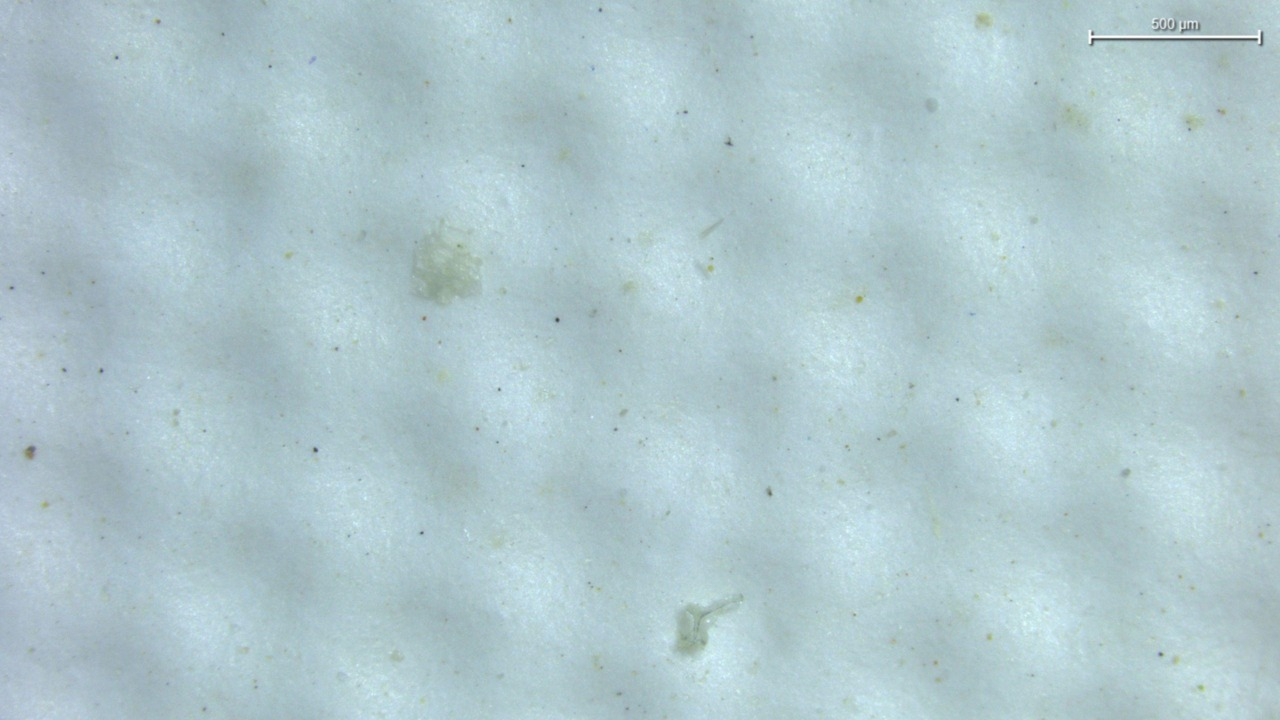microplastic_fragment: (412, 219, 482, 303), (676, 595, 743, 654)
